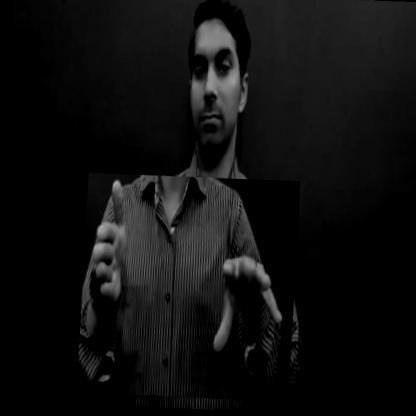Expensive: (73, 169, 302, 408)
